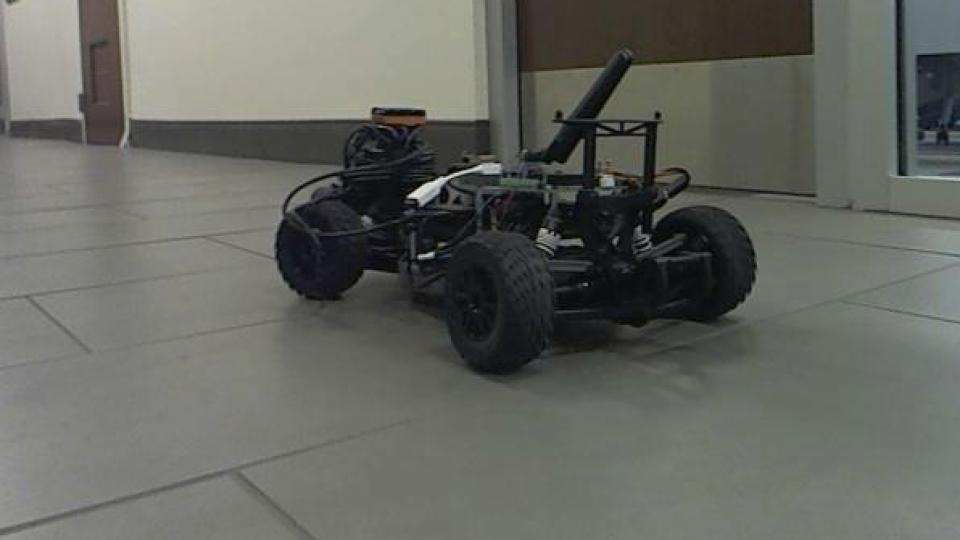car: (271, 45, 760, 377)
